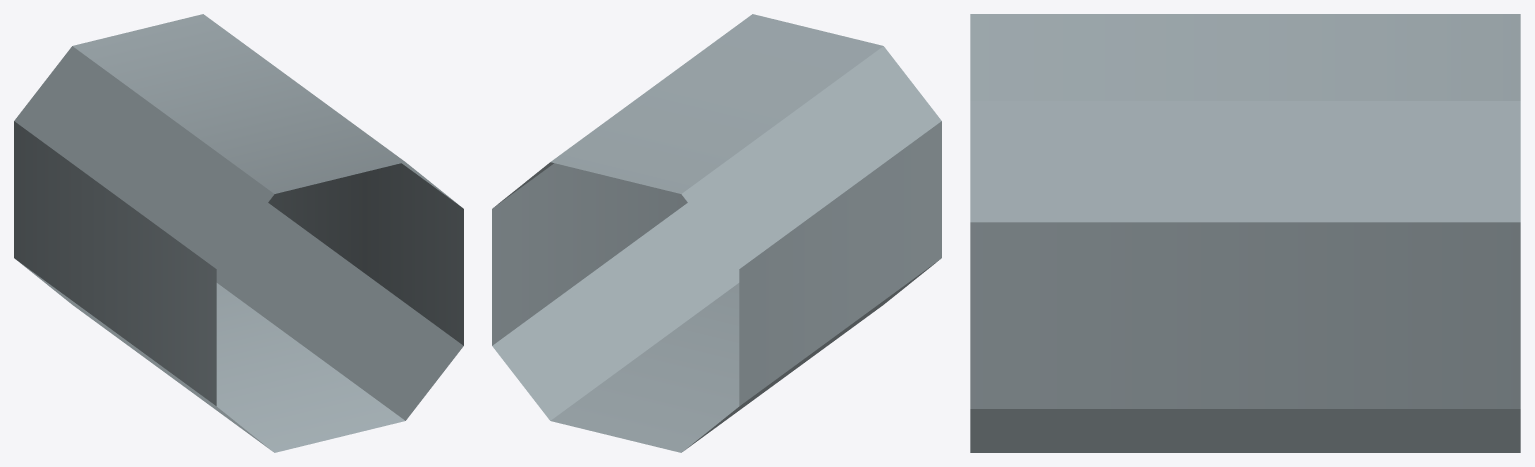
The picture shows the model from 3 angles, left to right: view 1: azimuth 30°, elevation 25°; view 2: azimuth 150°, elevation 25°; view 3: azimuth 270°, elevation 25°; orthographic projection. The views are drawn at different scales.
Parts seen in each view (by area): view 1: Pillar 01.001; view 2: Pillar 01.001; view 3: Pillar 01.001.
Part boxes in pixels (box(x1,y1,x2,y2)): Pillar 01.001: box(14, 14, 463, 452); Pillar 01.001: box(492, 14, 941, 452); Pillar 01.001: box(970, 14, 1520, 452).
Bounding box in the file's own units: 50.06 × 50.06 × 70.94.
